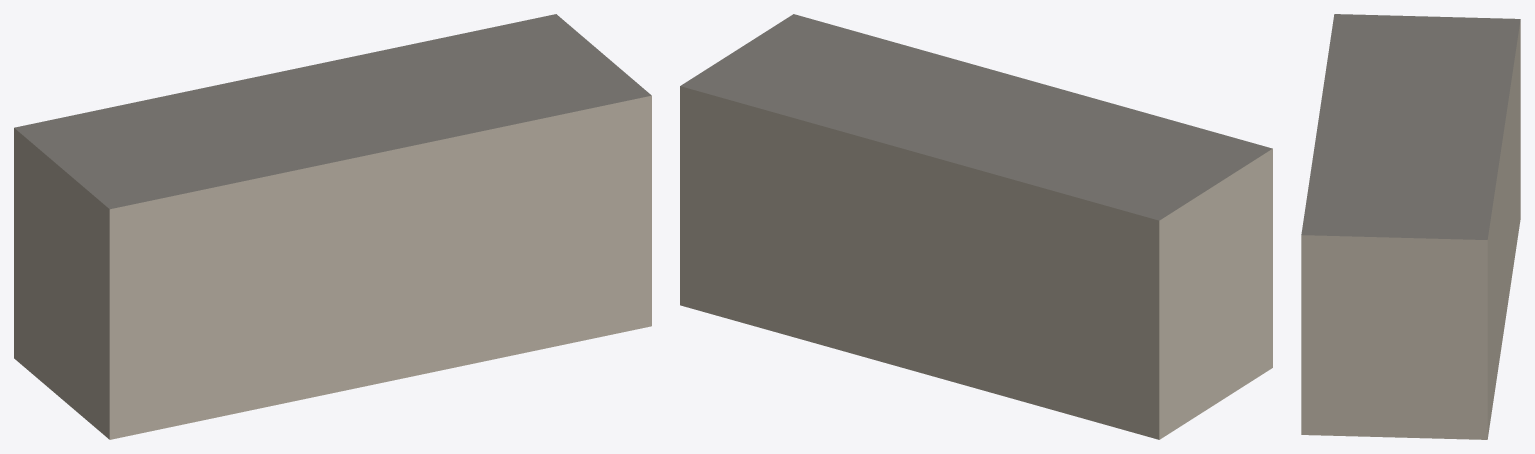
3 views of the same model, side by side, from view 1: azimuth 30°, elevation 25°; view 2: azimuth 150°, elevation 25°; view 3: azimuth 270°, elevation 25° (orthographic). The views are drawn at different scales.
Parts seen in each view (by area): view 1: HP-w987283657; view 2: HP-w987283657; view 3: HP-w987283657.
Boxes of the visible parts, x1,y1,x2,y2 form: HP-w987283657: [14, 14, 651, 439]; HP-w987283657: [680, 14, 1272, 439]; HP-w987283657: [1301, 14, 1520, 439].
Size of the model in its own units: 43.69 by 18 by 17.91.
